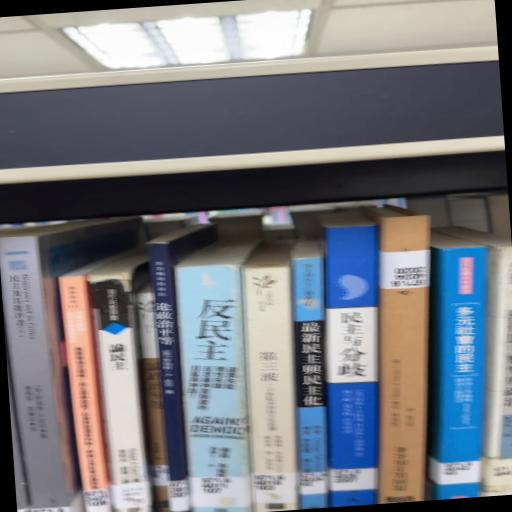book: (176, 241, 259, 512), (59, 254, 128, 512), (322, 211, 379, 508), (244, 243, 299, 512)
reverse: (364, 207, 431, 505)
